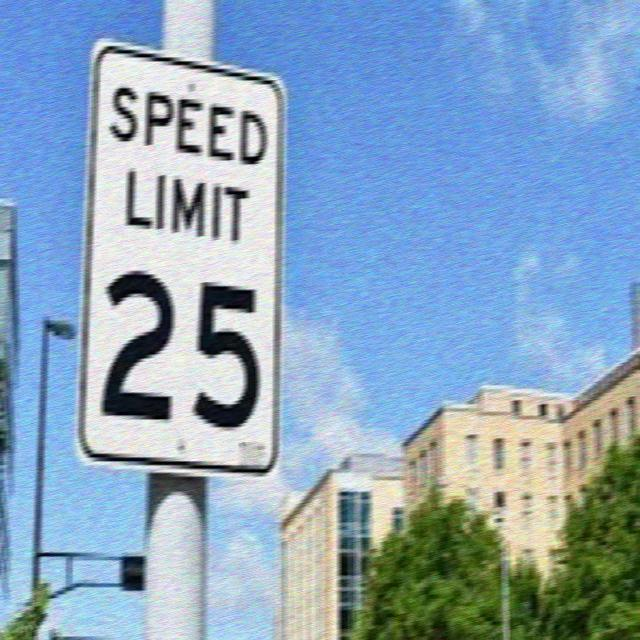speedLimit25: (68, 4, 292, 491)
